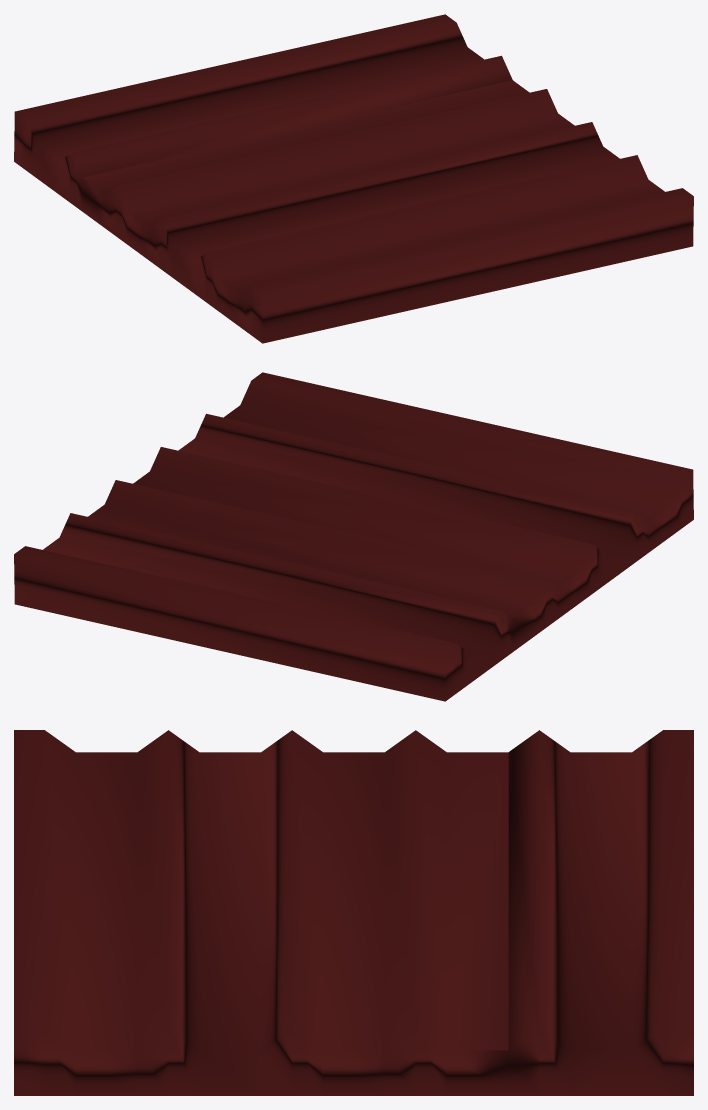
The model's file is cube.003_lev3.glb.
3 renders of one model, top to bottom at view 1: azimuth 30°, elevation 25°; view 2: azimuth 150°, elevation 25°; view 3: azimuth 270°, elevation 25°, orthographic. The views are drawn at different scales.
Visible parts, largest first — view 1: cube.003_lev3; view 2: cube.003_lev3; view 3: cube.003_lev3.
Boxes of the visible parts, <box> form: cube.003_lev3: <box>14,14,693,343</box>; cube.003_lev3: <box>14,372,693,701</box>; cube.003_lev3: <box>14,730,693,1095</box>.
Size of the model in its own units: 1.36 by 0.1739 by 1.36.
